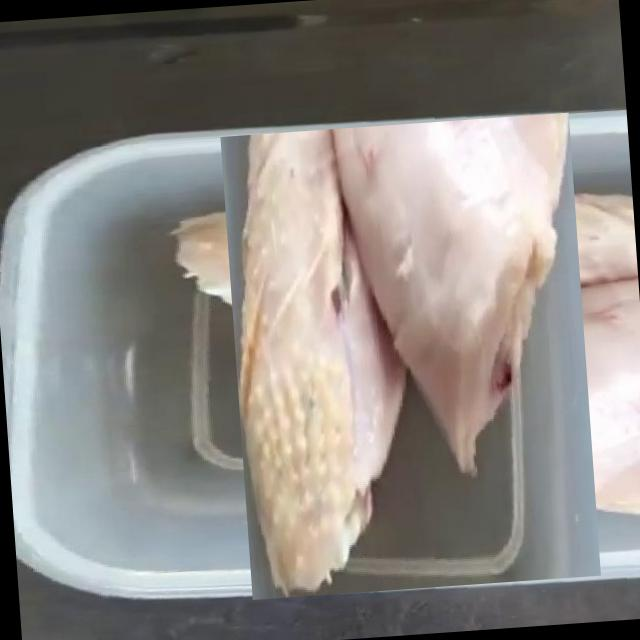chicken: (193, 139, 628, 573)
